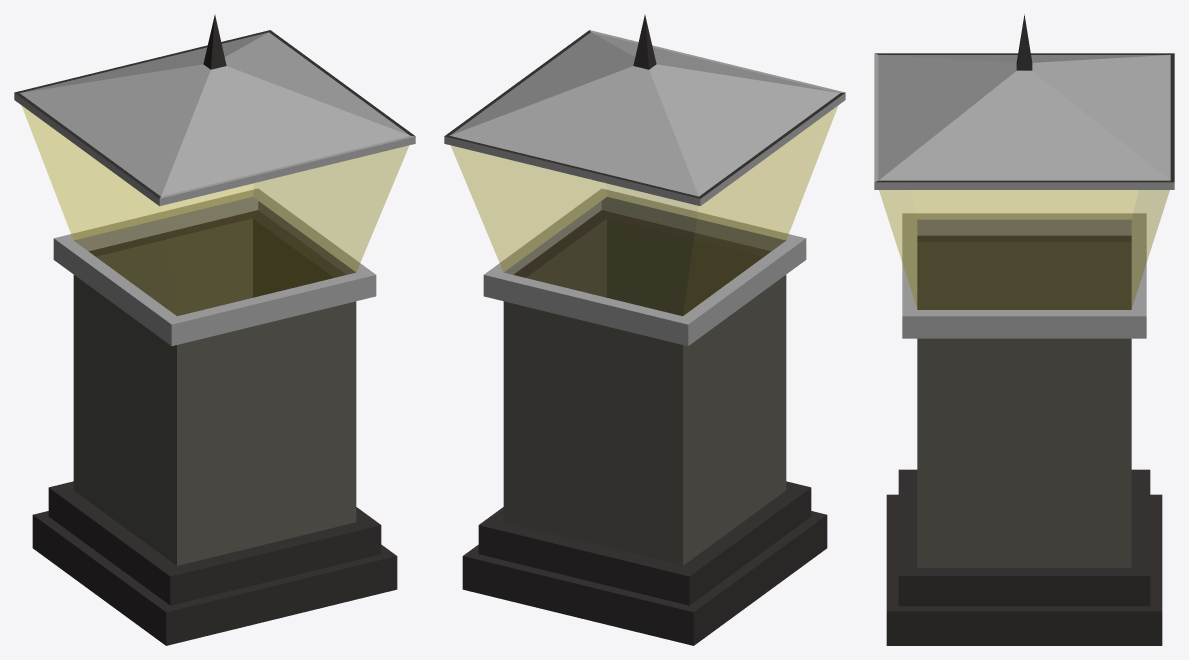
Rendered from StandingLantern.fbx.
The picture shows the model from 3 angles, left to right: view 1: azimuth 30°, elevation 25°; view 2: azimuth 150°, elevation 25°; view 3: azimuth 270°, elevation 25°; orthographic projection. The views are drawn at different scales.
Visible parts, largest first — view 1: pCube1; view 2: pCube1; view 3: pCube1.
Part boxes in pixels (left/top/right/bottom): pCube1: left=14, top=15, right=415, bottom=645; pCube1: left=444, top=15, right=845, bottom=645; pCube1: left=874, top=14, right=1174, bottom=645.
Size of the model in its own units: 2.86 by 5.92 by 2.81.
